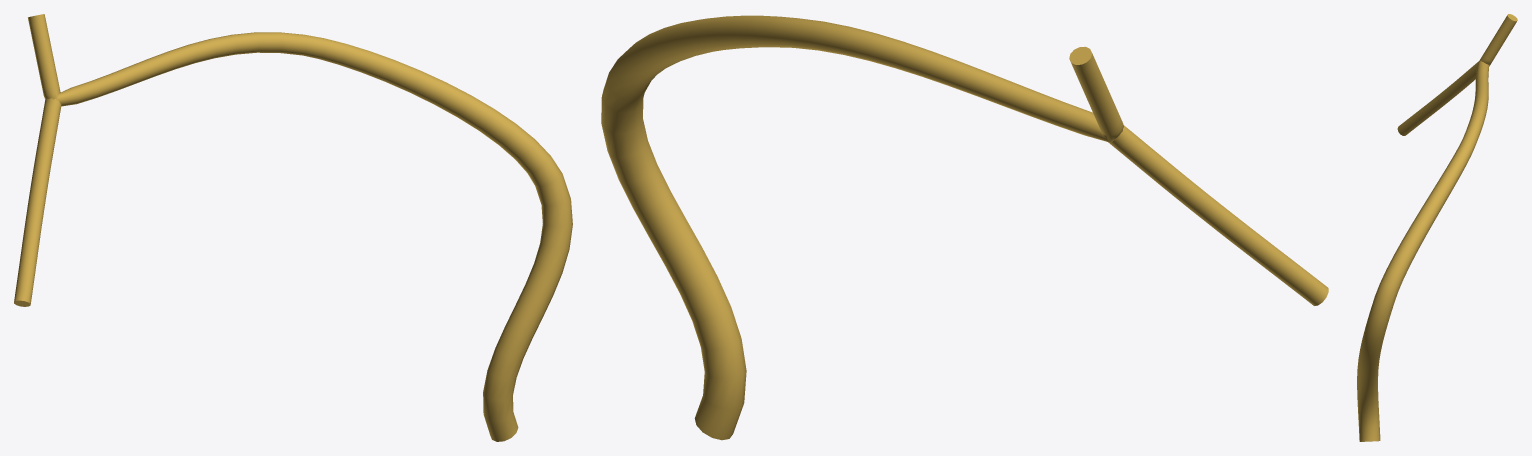
3 views of the same model, side by side, from view 1: azimuth 30°, elevation 25°; view 2: azimuth 150°, elevation 25°; view 3: azimuth 270°, elevation 25° (orthographic). The views are drawn at different scales.
Visible parts, largest first — view 1: 左侧前庭蜗神经; view 2: 左侧前庭蜗神经; view 3: 左侧前庭蜗神经.
Part boxes in pixels (<box>): 左侧前庭蜗神经: <box>14,14,572,441</box>; 左侧前庭蜗神经: <box>601,15,1328,440</box>; 左侧前庭蜗神经: <box>1357,14,1517,441</box>.
Size of the model in its own units: 0.0212 by 0.0166 by 0.0079.
